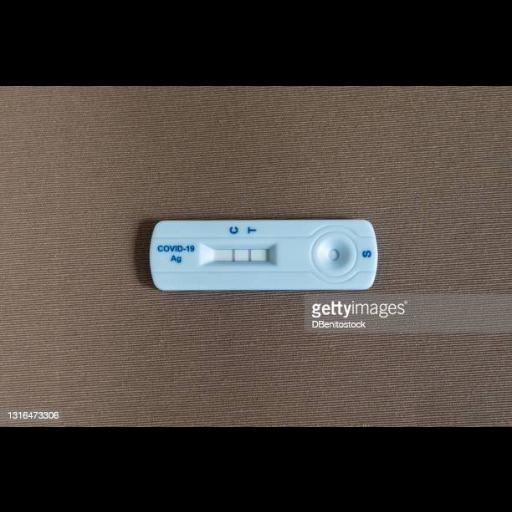Pos: (152, 220, 378, 286)
